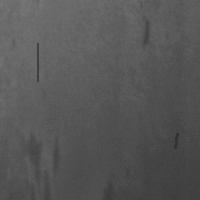inclusion: (21, 130, 64, 197), (136, 11, 155, 53), (35, 41, 39, 83), (173, 131, 179, 150)
